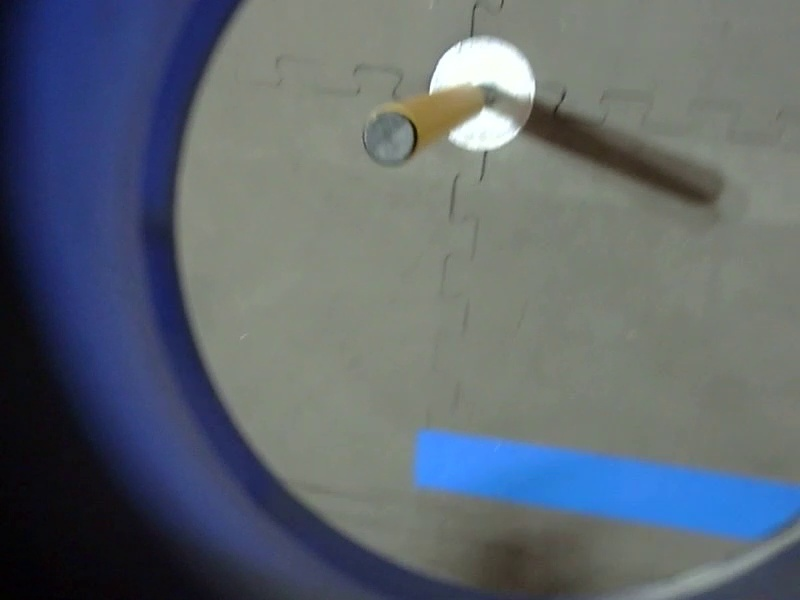tip: (512, 357, 623, 473)
